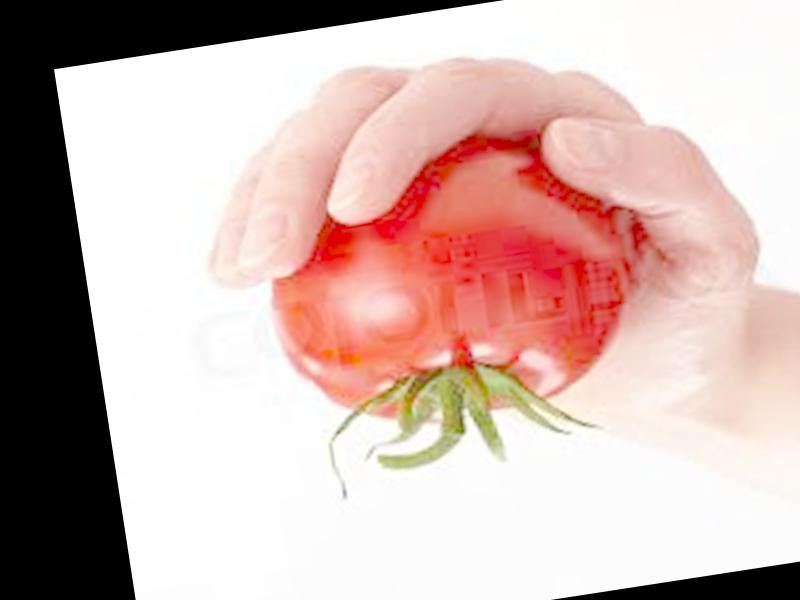Tomato: (251, 121, 640, 446)
